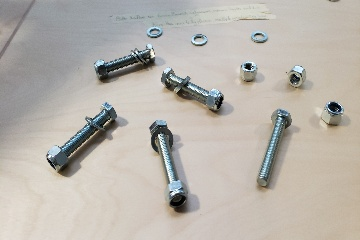Bolt: (252, 106, 293, 189)
FalseAssembly: (42, 99, 121, 172), (146, 119, 193, 211)
FinishedAssembly: (160, 65, 225, 113), (92, 43, 156, 82)
Nut: (321, 98, 345, 128), (285, 64, 309, 89), (238, 59, 260, 85)
Washer: (248, 30, 269, 45), (145, 27, 165, 40), (188, 33, 209, 45)
